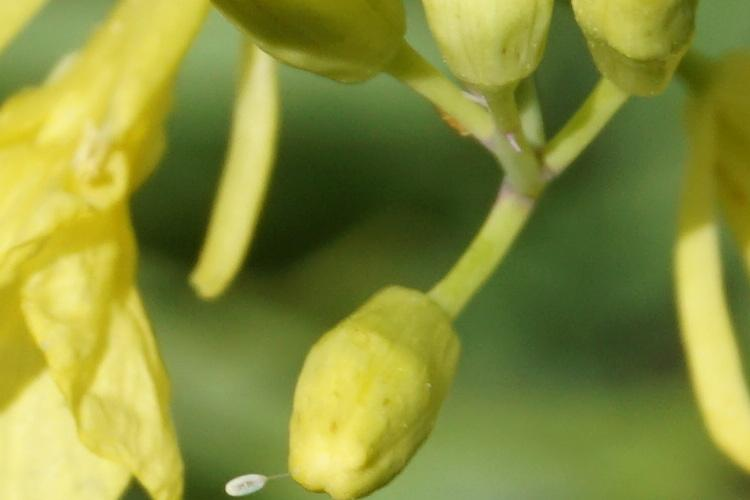bud: (295, 278, 461, 487), (217, 2, 413, 84), (424, 5, 555, 89), (580, 6, 691, 97)
yellow: (4, 25, 199, 495)
